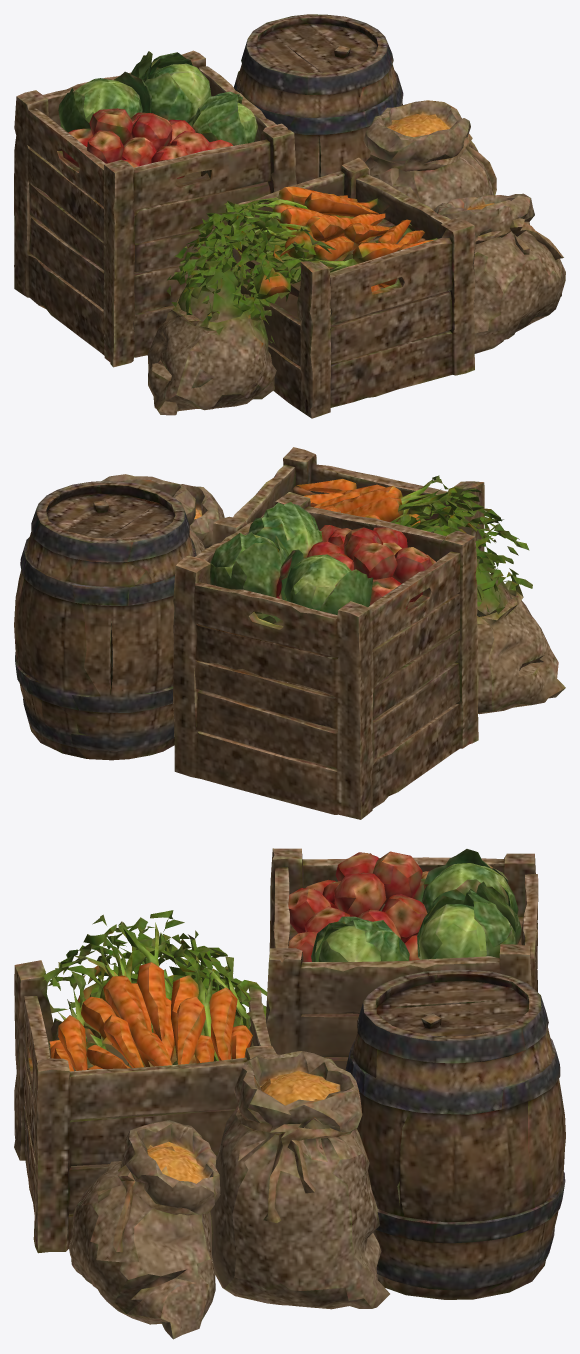
File: storage_lite.glb
3 renders of one model, top to bottom at view 1: azimuth 30°, elevation 25°; view 2: azimuth 150°, elevation 25°; view 3: azimuth 270°, elevation 25°, orthographic. The views are drawn at different scales.
Parts seen in each view (by area): view 1: geometry_0; view 2: geometry_0; view 3: geometry_0.
Boxes of the visible parts, x1,y1,x2,y2 form: geometry_0: (14,14,565,418); geometry_0: (14,447,565,819); geometry_0: (14,848,565,1339).
Bounding box in the file's own units: 1.9 × 0.947 × 1.69.
Materials: 1 (1 with a texture image).
